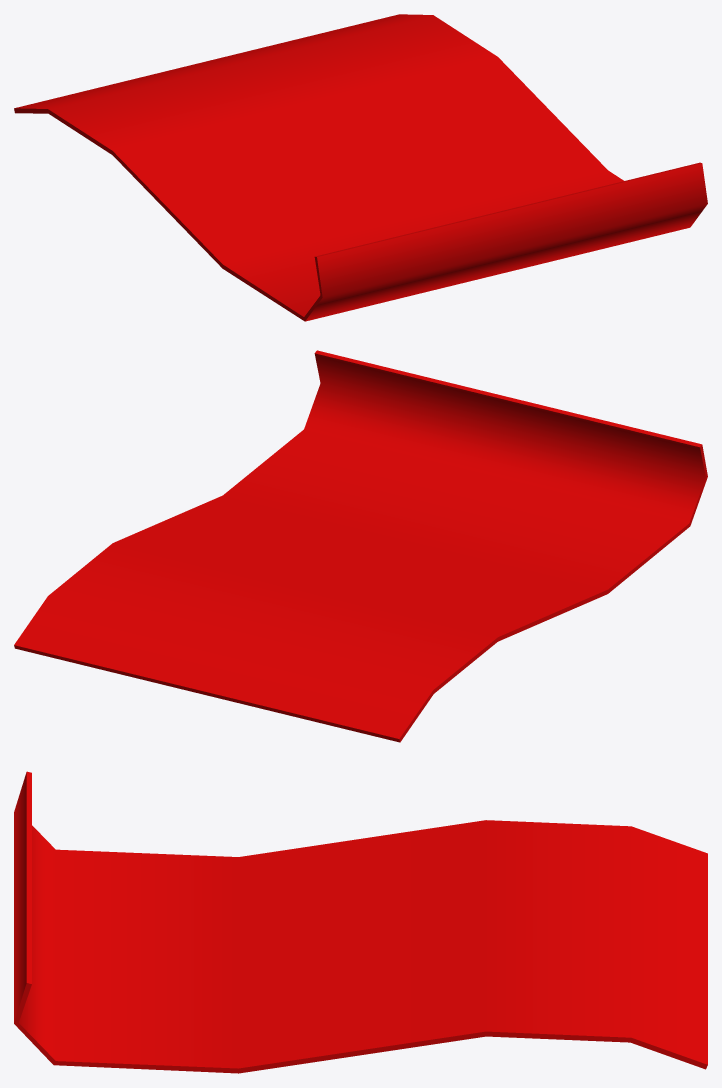
The model's file is Asset_SecretGlowgazersSociety.glb.
3 renders of one model, top to bottom at view 1: azimuth 30°, elevation 25°; view 2: azimuth 150°, elevation 25°; view 3: azimuth 270°, elevation 25°, orthographic. The views are drawn at different scales.
Parts seen in each view (by area): view 1: Asset_SecretGlowgazersSociety; view 2: Asset_SecretGlowgazersSociety; view 3: Asset_SecretGlowgazersSociety.
Boxes of the visible parts, left/top/right/bottom form: Asset_SecretGlowgazersSociety: left=14, top=14, right=707, bottom=321; Asset_SecretGlowgazersSociety: left=14, top=350, right=707, bottom=742; Asset_SecretGlowgazersSociety: left=14, top=771, right=707, bottom=1073.
Size of the model in its own units: 0.2506 by 0.0501 by 0.3476.
